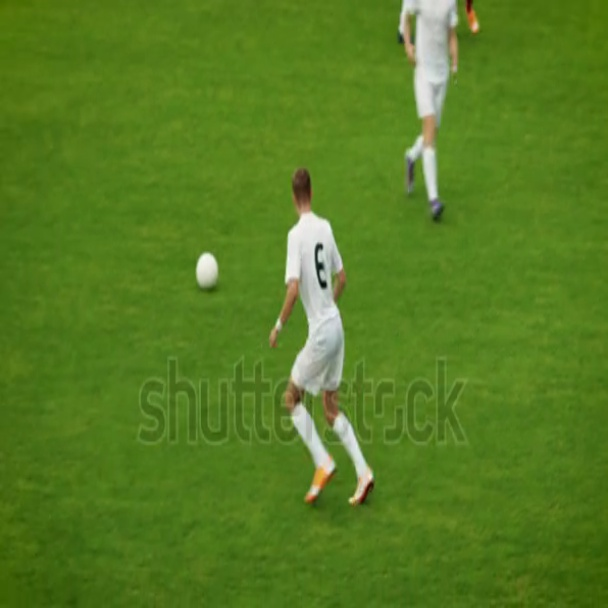ball: (198, 252, 216, 282)
